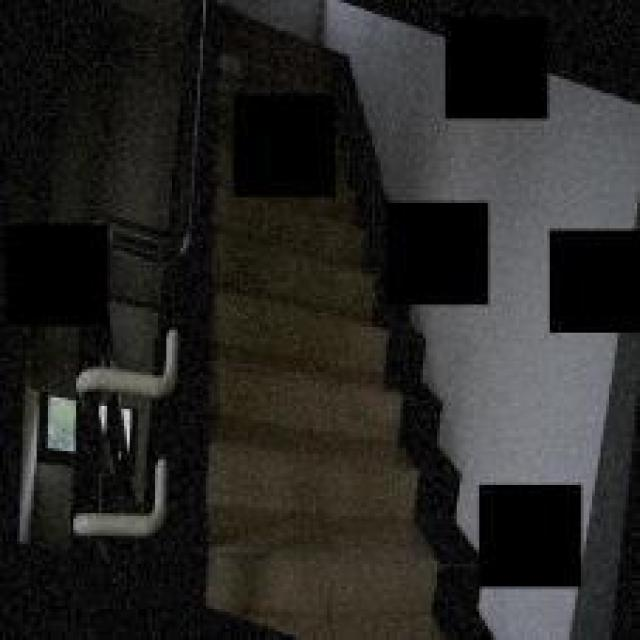upstair: (184, 328, 441, 613)
